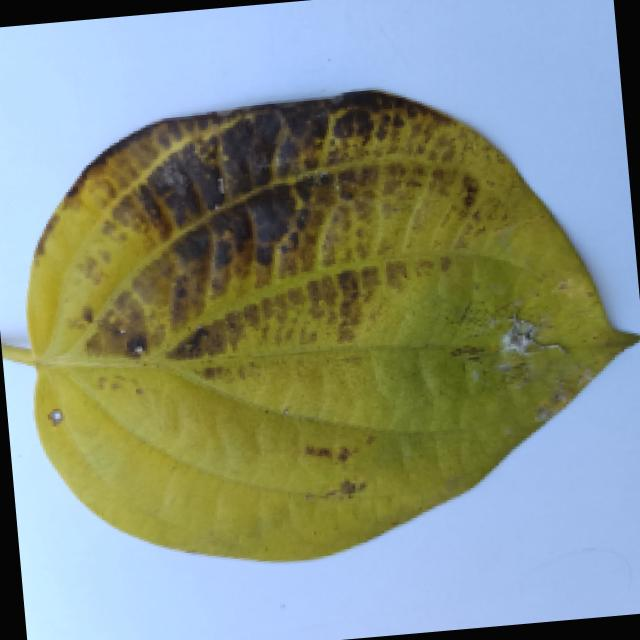slow-decline: (1, 62, 640, 567)
